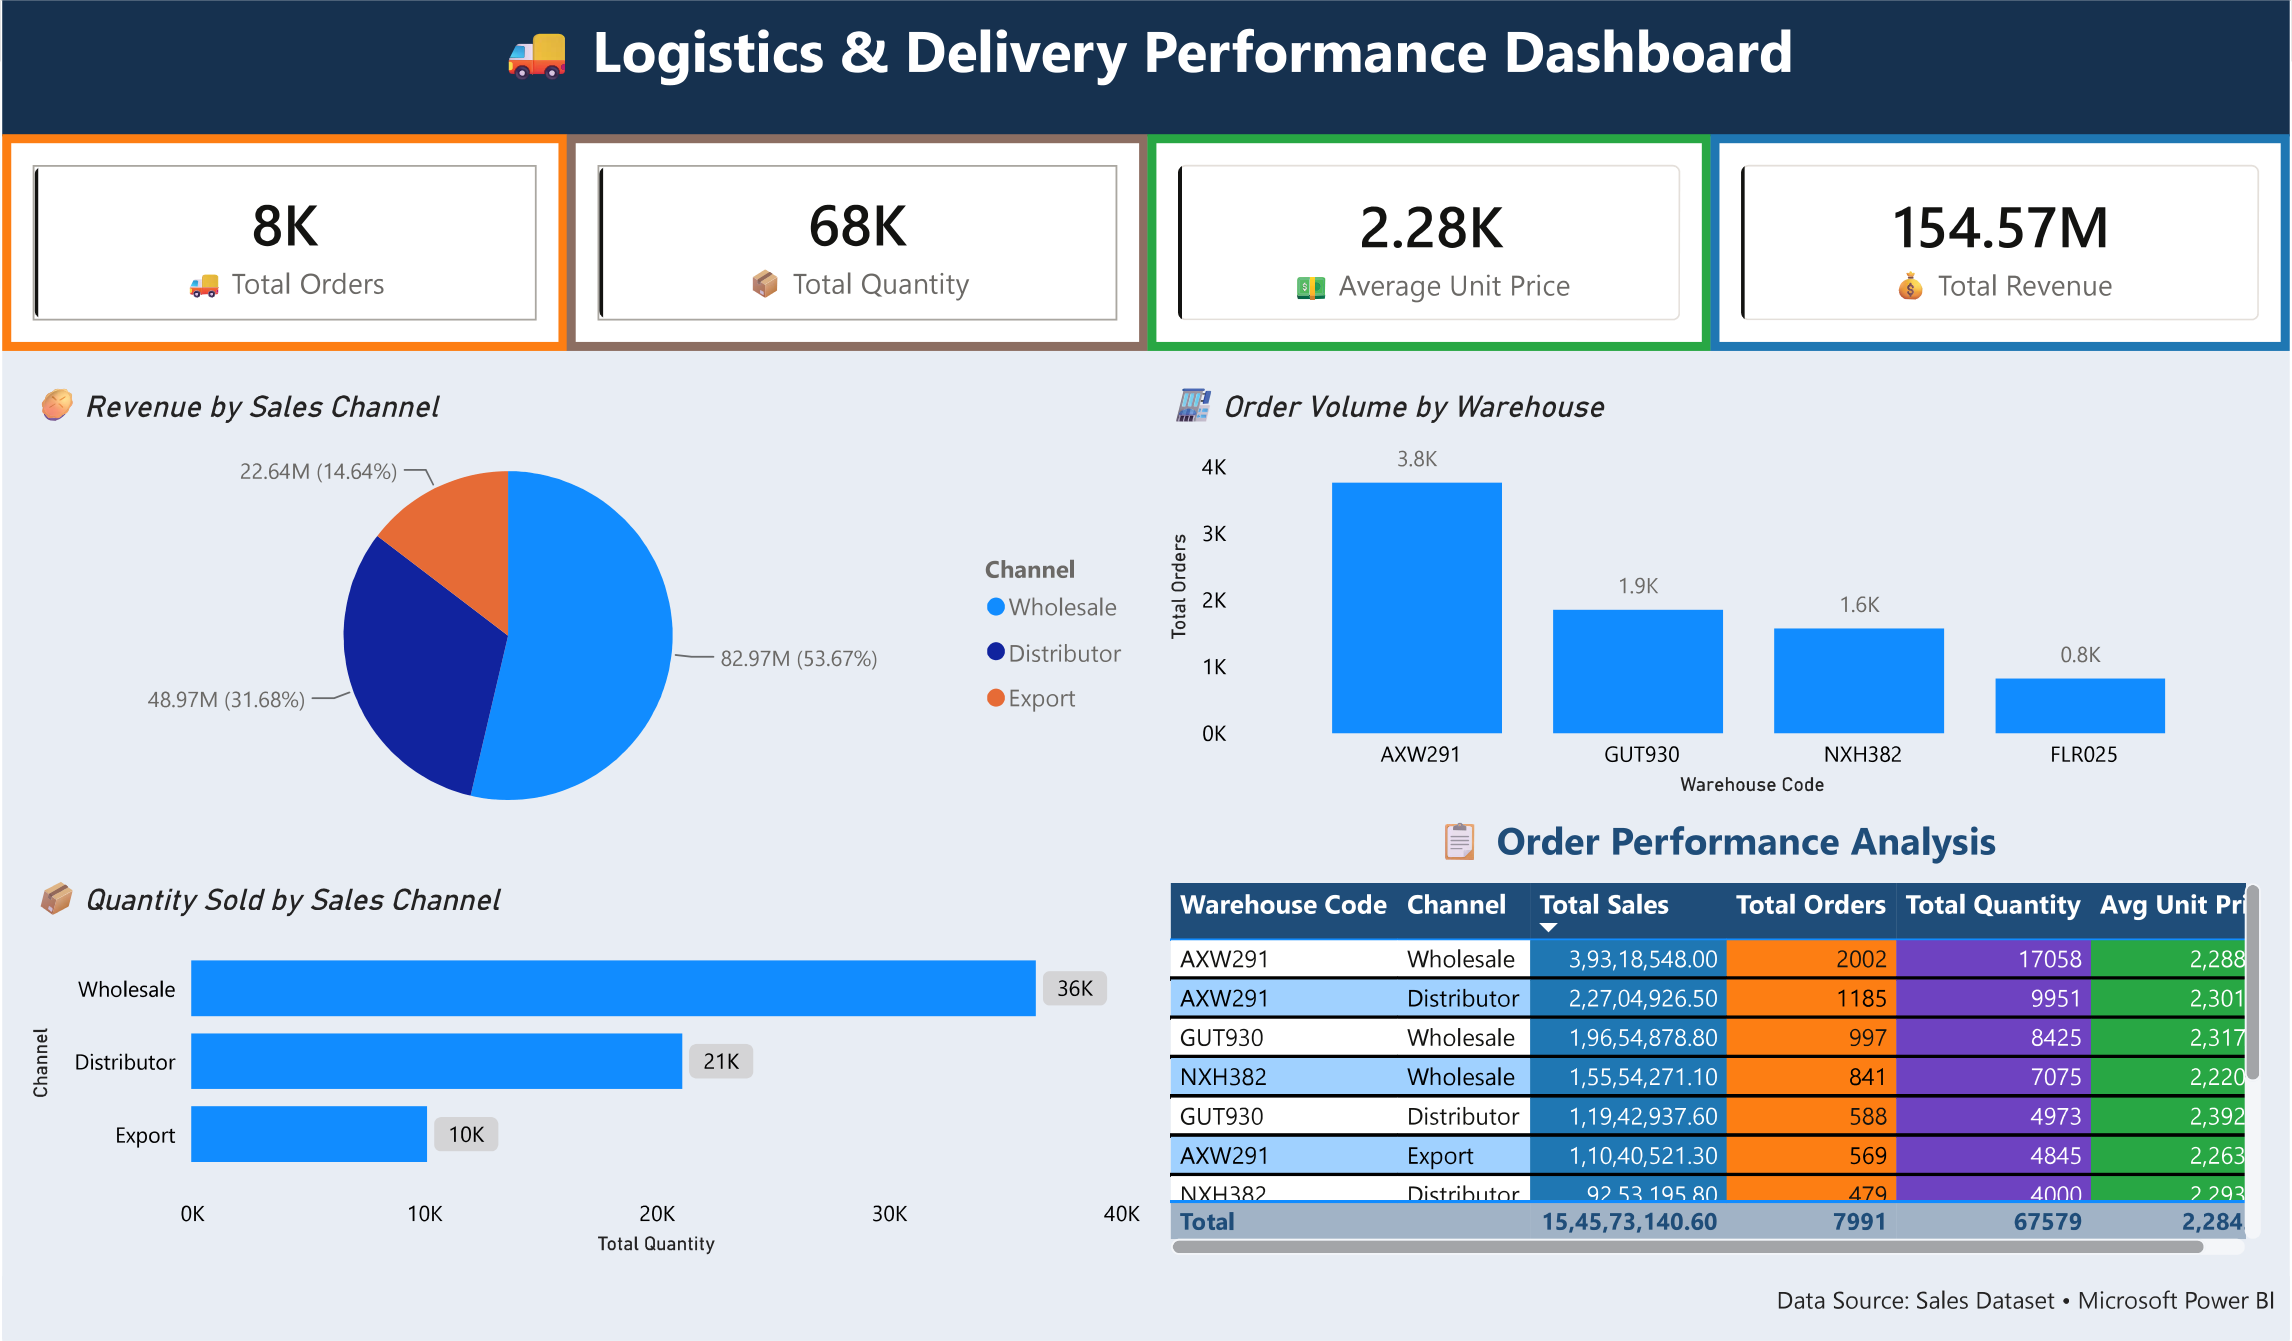

The page's visual inventory and layout, read from the dashboard file:
{"tool":"powerbi","page":{"name":"Page 4","canvas":[1280,750],"ordinal":3},"visuals":[{"type":"textbox","box":[0,0,1280.3,75.6],"z":0},{"type":"cardVisual","fields":{"Data":["KPI_Measures1.Total Orders"]},"box":[0,75,316,121],"z":1000},{"type":"cardVisual","fields":{"Data":["KPI_Measures1.Total Quantity"]},"box":[315.6,75.5,325.2,120.8],"z":2000},{"type":"cardVisual","fields":{"Data":["KPI_Measures1.Avg Unit Price"]},"box":[640.8,75.5,315.6,120.8],"z":3000},{"type":"cardVisual","fields":{"Data":["KPI_Measures1.Total Sales"]},"box":[956.4,75.5,323.8,120.8],"z":4000},{"type":"pieChart","title":"🥧 Revenue by Sales Channel","fields":{"Category":["Sales Orders.Channel"],"Y":["KPI_Measures1.Total Sales"]},"box":[11,212.7,629.8,266.2],"z":5000},{"type":"clusteredColumnChart","title":"🏬 Order Volume by Warehouse","fields":{"Category":["Sales Orders.Warehouse Code"],"Y":["KPI_Measures1.Total Orders"]},"box":[648,213,621,237],"z":6000},{"type":"clusteredBarChart","title":"📦 Quantity Sold by Sales Channel","fields":{"Category":["Sales Orders.Channel"],"Y":["KPI_Measures1.Total Quantity"]},"box":[11,488.5,629.8,218.2],"z":7000},{"type":"tableEx","fields":{"Values":["Sales Orders.Warehouse Code","Sales Orders.Channel","KPI_Measures1.Total Sales","KPI_Measures1.Total Orders","KPI_Measures1.Total Quantity","KPI_Measures1.Avg Unit Price"]},"box":[647.7,488.5,621.6,218.2],"z":8000},{"type":"textbox","box":[647.7,450.1,621.6,38.4],"z":9000},{"type":"textbox","box":[0,714.3,1280.2,34.8],"z":10000}]}

Visuals, with their boxes in screenshot pixels (x1, y1, x2, y2), scaled from the page's 1280x750 canvas onto the 2292x1341 screenshot:
textbox: x1=0 y1=0 x2=2291 y2=135
cardVisual - KPI_Measures1.Total Orders: x1=0 y1=134 x2=566 y2=350
cardVisual - KPI_Measures1.Total Quantity: x1=565 y1=135 x2=1147 y2=351
cardVisual - KPI_Measures1.Avg Unit Price: x1=1147 y1=135 x2=1713 y2=351
cardVisual - KPI_Measures1.Total Sales: x1=1713 y1=135 x2=2291 y2=351
"🥧 Revenue by Sales Channel" pieChart: x1=20 y1=380 x2=1147 y2=856
"🏬 Order Volume by Warehouse" clusteredColumnChart: x1=1160 y1=381 x2=2272 y2=805
"📦 Quantity Sold by Sales Channel" clusteredBarChart: x1=20 y1=873 x2=1147 y2=1264
tableEx - Sales Orders.Warehouse Code x Sales Orders.Channel: x1=1160 y1=873 x2=2273 y2=1264
textbox: x1=1160 y1=805 x2=2273 y2=873
textbox: x1=0 y1=1277 x2=2291 y2=1339
